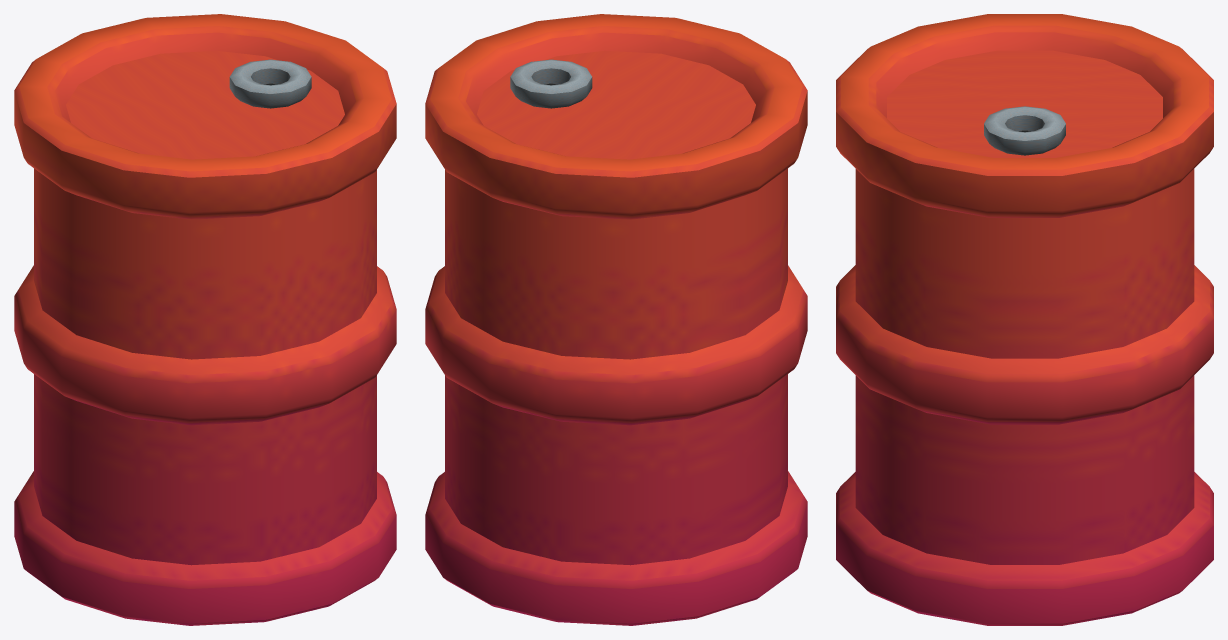
The model's file is Fuel_A_Barrel.gltf.
3 renders of one model, left to right at view 1: azimuth 30°, elevation 25°; view 2: azimuth 150°, elevation 25°; view 3: azimuth 270°, elevation 25°, orthographic.
Visible parts, largest first — view 1: Fuel_A_Barrel; view 2: Fuel_A_Barrel; view 3: Fuel_A_Barrel.
Part boxes in pixels (<box>): Fuel_A_Barrel: <box>14,14,396,625</box>; Fuel_A_Barrel: <box>425,14,807,625</box>; Fuel_A_Barrel: <box>836,14,1213,625</box>.
Bounding box in the file's own units: 0.75 × 1.01 × 0.75.
Materials: 1 (1 with a texture image).
